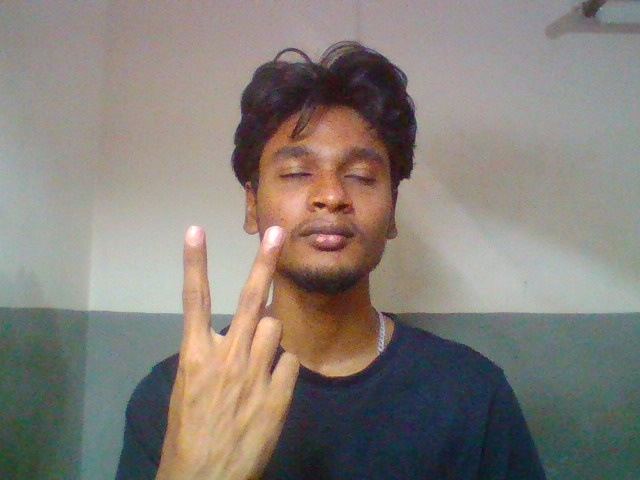V: (156, 223, 306, 480)
